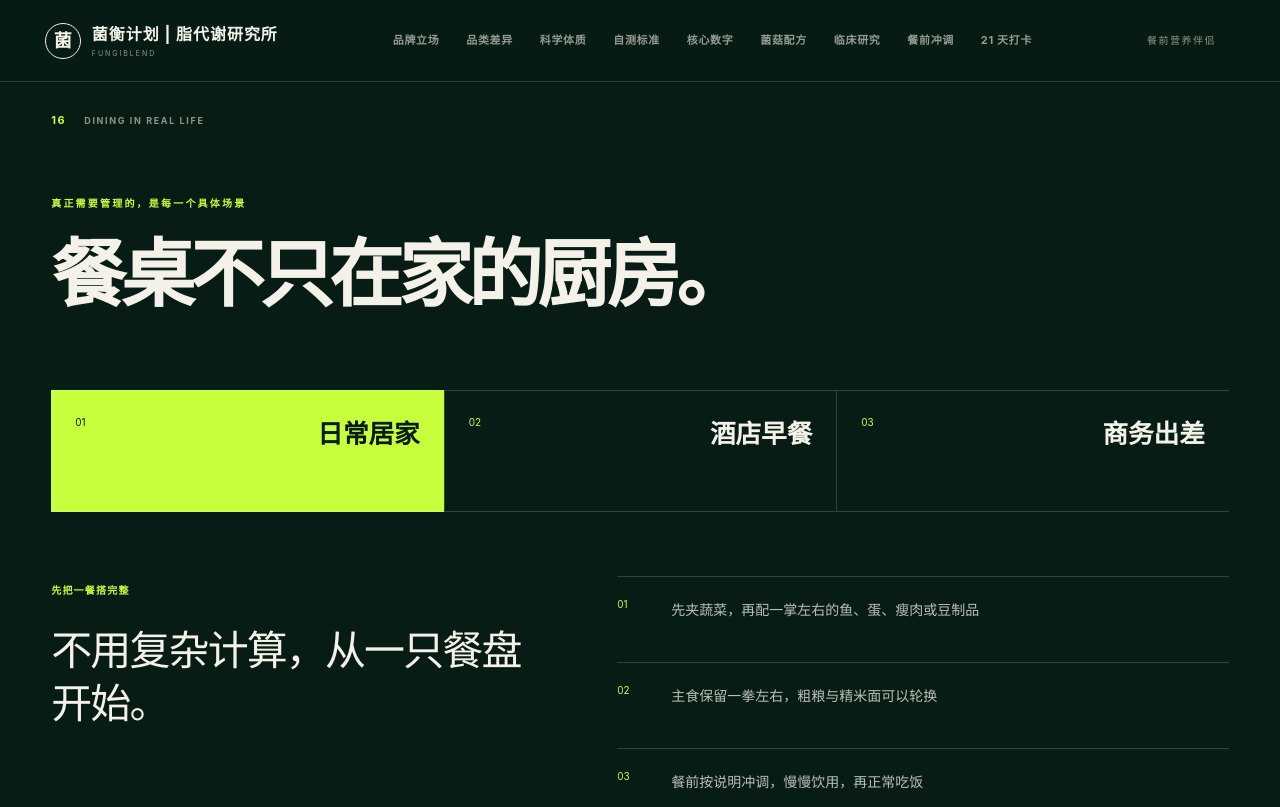
Test: priority lifestyle sections › switches dining scenarios with accessible tabs
(page scrolled)
Click the tab "02 酒店早餐". click: (761, 433)
box: left=444, top=390, right=836, bottom=512
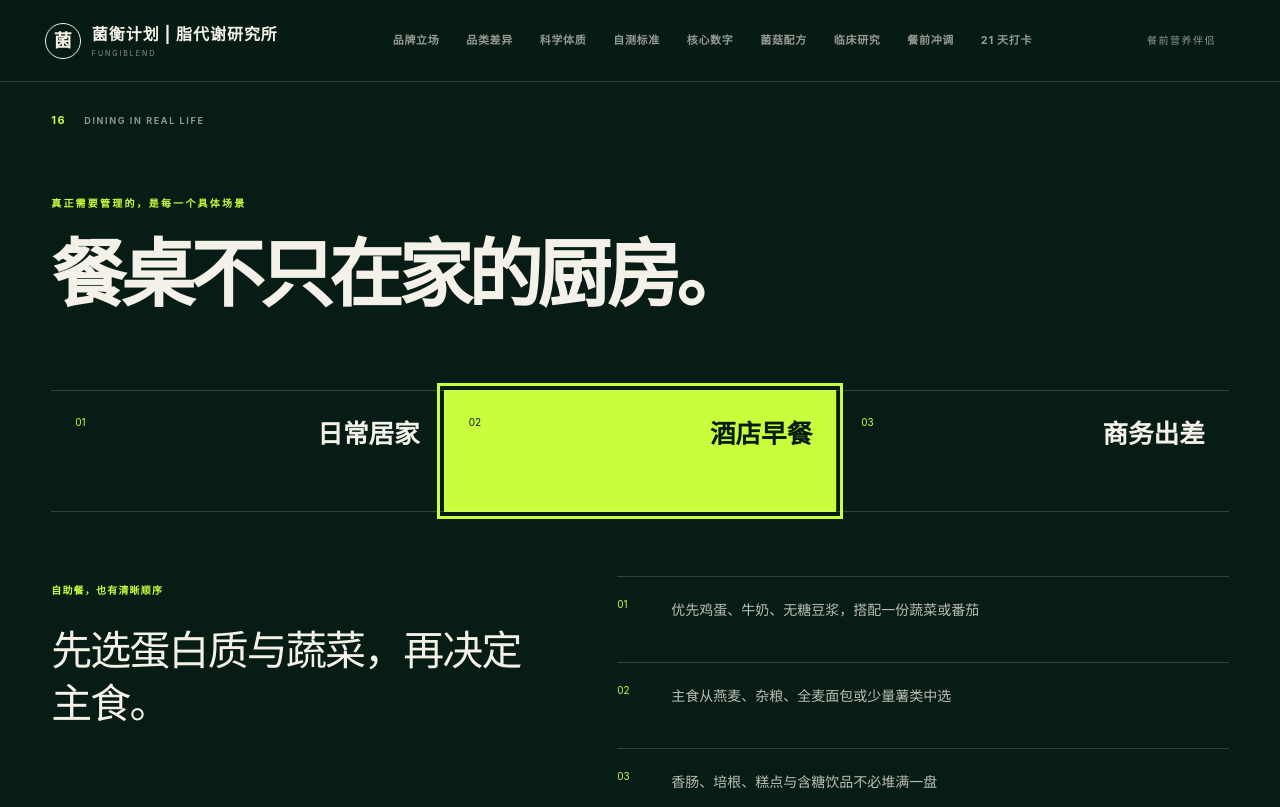
Check: the panel shows "鸡蛋、牛奶、无糖豆浆", box left=671, top=601, right=979, bottom=618
Click the tab "03 商务出差". click: (1154, 433)
box: left=836, top=390, right=1229, bottom=512
(page scrolled)
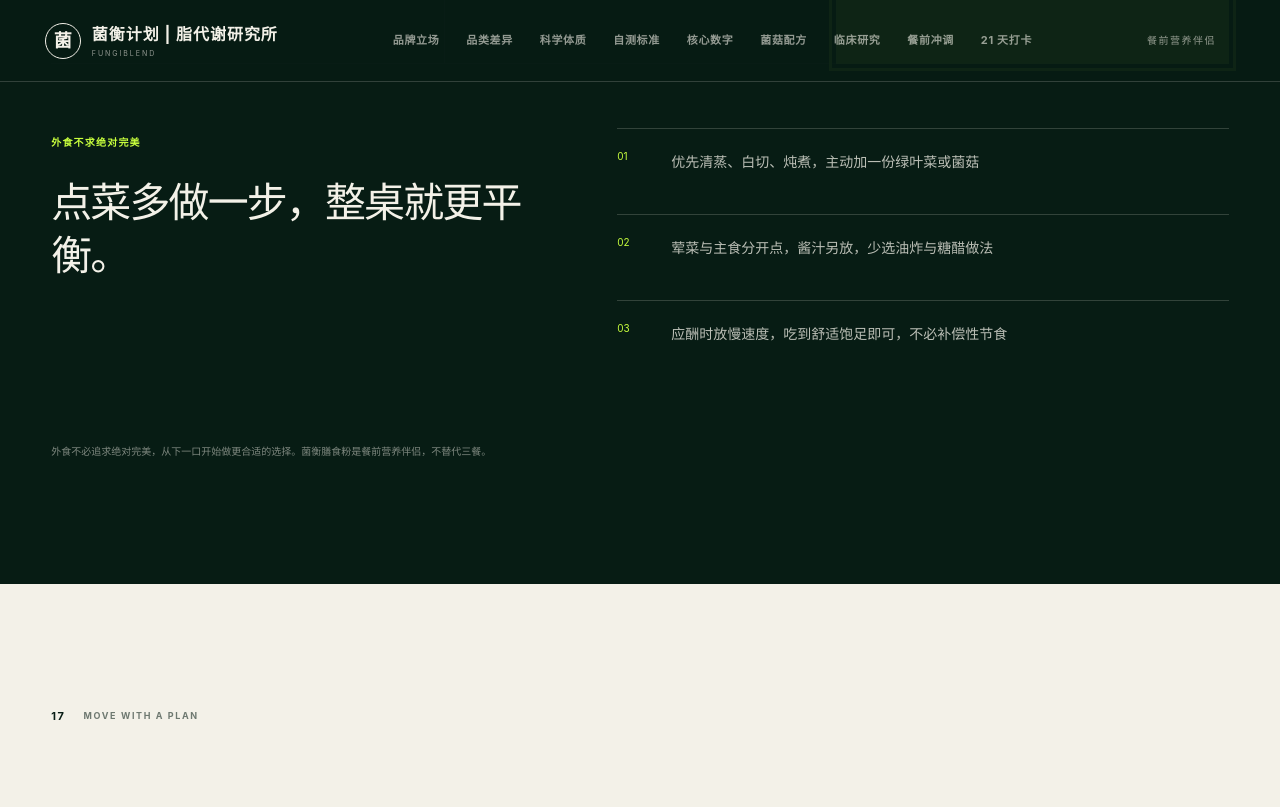
Check: the text "外食不必追求绝对完美，从下一口开始做更合适的选择。菌衡膳食粉是餐前营养伴侣，不替代三餐。" is shown, box left=51, top=445, right=491, bottom=457
Check: the panel shows "优先清蒸、白切、炖煮", box left=671, top=153, right=979, bottom=170
